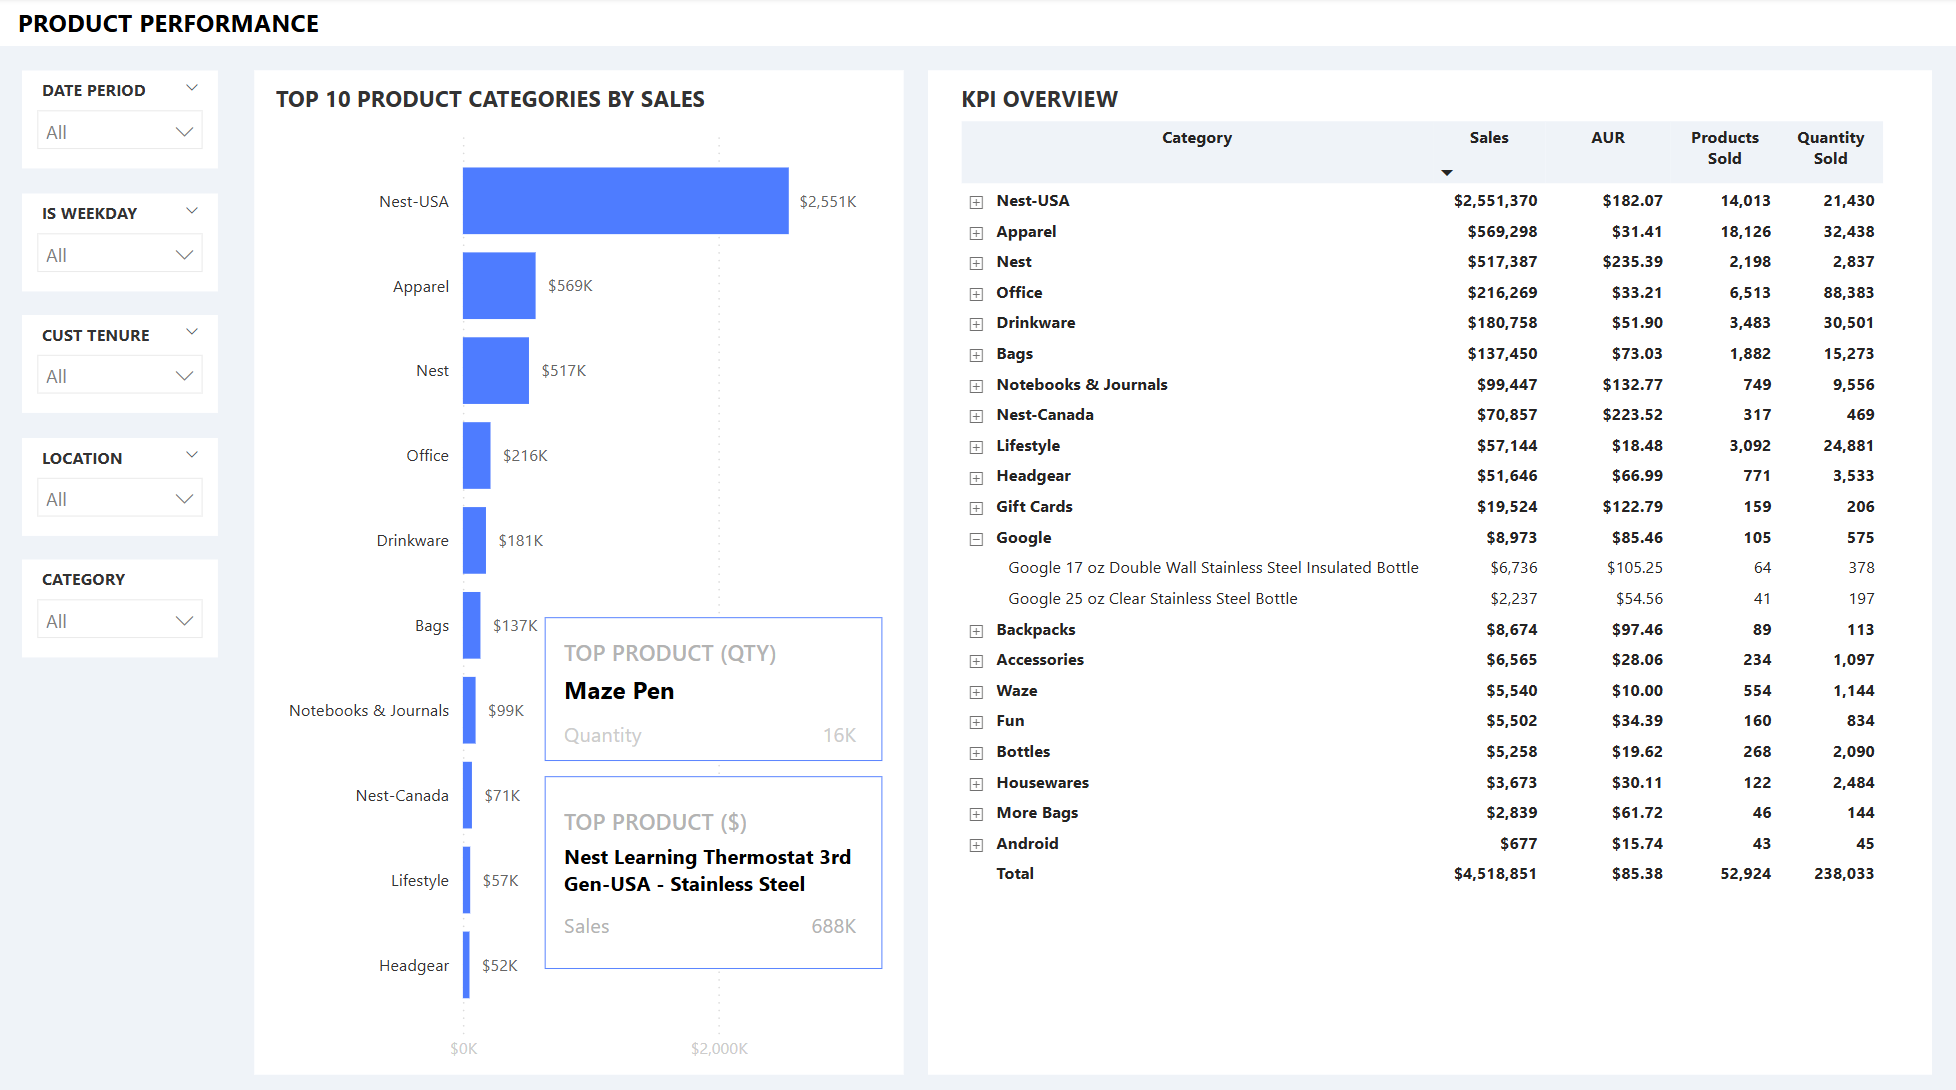

The dashboard page shown, as its layout file describes it:
{"tool":"powerbi","page":{"name":"Products","canvas":[1280,720],"ordinal":4},"visuals":[{"type":"shape","box":[168,48,424,656],"z":0},{"type":"shape","box":[0,0,1280,32],"z":1000},{"type":"shape","box":[608,48,656,656],"z":2000},{"type":"pivotTable","title":"KPI OVERVIEW","fields":{"Values":["Measures_Table.Sales Amount","Measures_Table.Avg Sale Price","Measures_Table.Products Sold","Measures_Table.Quantity Sold"],"Rows":["F_Online_Sales.Product_Category","F_Online_Sales.Product_Description"]},"box":[624,56,632,632],"z":3000},{"type":"slicer","fields":{"Values":["Date.Quarter","Date.Month Name"]},"box":[16,48,128,64],"z":4000},{"type":"slicer","fields":{"Values":["Date.Is Weekend"]},"box":[16,128,128,64],"z":5000},{"type":"slicer","fields":{"Values":["D_Customers.Tenure Intervals"]},"box":[16,208,128,64],"z":6000},{"type":"slicer","fields":{"Values":["F_Online_Sales.Product_Category"]},"box":[16,368,128,64],"z":7000},{"type":"slicer","fields":{"Values":["D_Customers.Location"]},"box":[16,288,128,64],"z":8000},{"type":"clusteredBarChart","title":"TOP 10 PRODUCT CATEGORIES BY SALES","fields":{"Category":["F_Online_Sales.Product_Category"],"Y":["Measures_Table.Sales"]},"box":[176,56,408,648],"z":9000},{"type":"cardVisual","fields":{"Data":["Measures_Table.Top Quantity Product Name"]},"box":[352,400,232,104],"z":10000},{"type":"cardVisual","fields":{"Data":["Measures_Table.Top Product (Sales)"]},"box":[352,504,232,136],"z":11000},{"type":"textbox","box":[8,0,408,32],"z":12000}]}

Visuals, with their boxes in screenshot pixels (x1, y1, x2, y2), scaled from the page's 1280x720 canvas onto the 1956x1090 screenshot:
shape: (x1=257, y1=73, x2=905, y2=1066)
shape: (x1=0, y1=0, x2=1955, y2=48)
shape: (x1=929, y1=73, x2=1932, y2=1066)
"KPI OVERVIEW" pivotTable: (x1=954, y1=85, x2=1919, y2=1042)
slicer - Date.Quarter x Date.Month Name: (x1=24, y1=73, x2=220, y2=170)
slicer - Date.Is Weekend: (x1=24, y1=194, x2=220, y2=291)
slicer - D_Customers.Tenure Intervals: (x1=24, y1=315, x2=220, y2=412)
slicer - F_Online_Sales.Product_Category: (x1=24, y1=557, x2=220, y2=654)
slicer - D_Customers.Location: (x1=24, y1=436, x2=220, y2=533)
"TOP 10 PRODUCT CATEGORIES BY SALES" clusteredBarChart: (x1=269, y1=85, x2=892, y2=1066)
cardVisual - Measures_Table.Top Quantity Product Name: (x1=538, y1=606, x2=892, y2=763)
cardVisual - Measures_Table.Top Product (Sales): (x1=538, y1=763, x2=892, y2=969)
textbox: (x1=12, y1=0, x2=636, y2=48)
